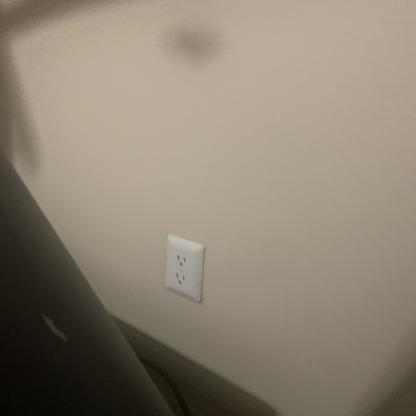OUTLET: (167, 235, 202, 304)
